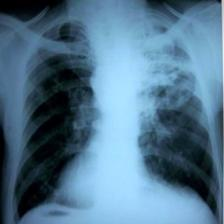tuberculosis: (4, 13, 224, 224)
